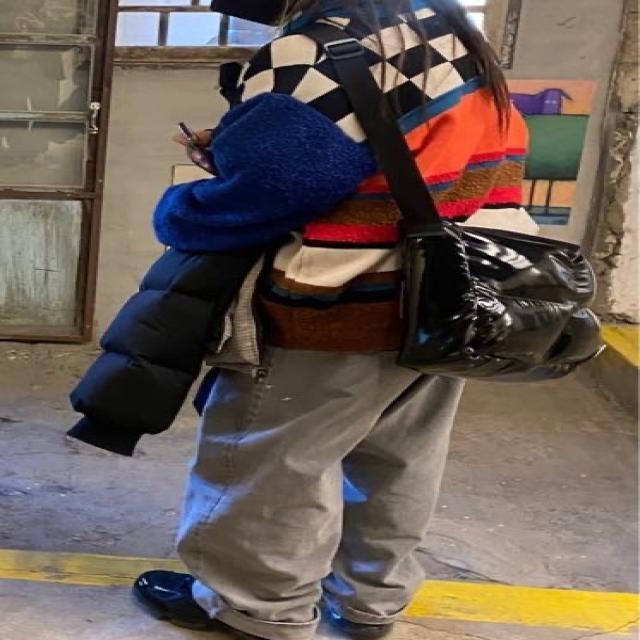cardigan: (150, 0, 527, 355)
denimpants: (174, 312, 466, 640)
